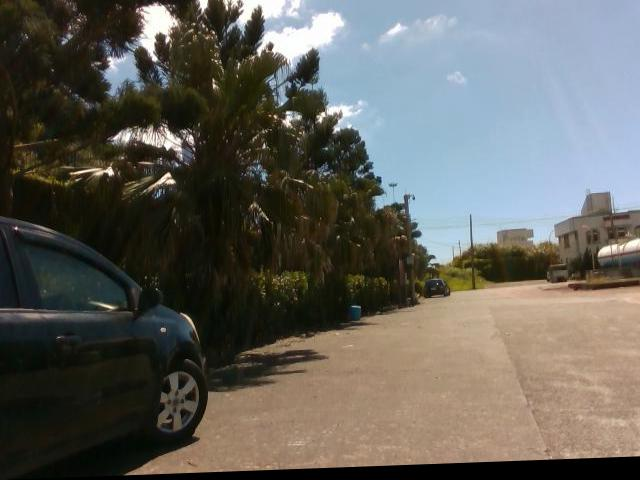pollute: (345, 307, 366, 323)
